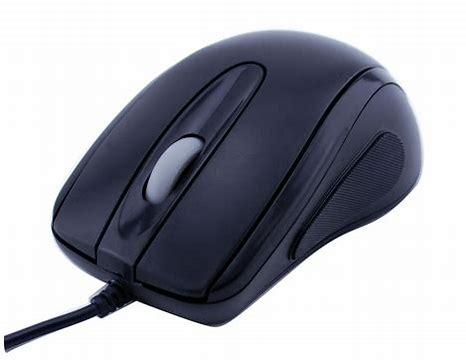computer mouse: (5, 30, 426, 351)
